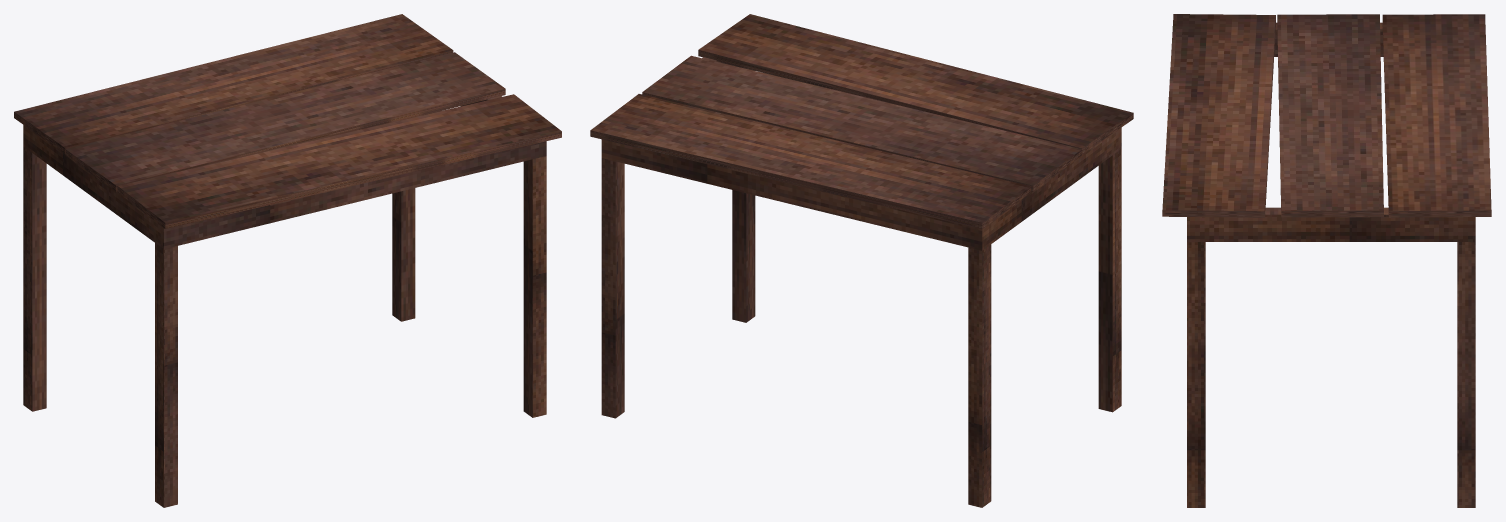
The model's file is Table.fbx.
3 renders of one model, left to right at view 1: azimuth 30°, elevation 25°; view 2: azimuth 150°, elevation 25°; view 3: azimuth 270°, elevation 25°, orthographic. The views are drawn at different scales.
Visible parts, largest first — view 1: Cube.002; view 2: Cube.002; view 3: Cube.002.
Boxes of the visible parts, box(x1,y1,x2,y2) form: Cube.002: box(14, 14, 561, 507); Cube.002: box(590, 14, 1133, 507); Cube.002: box(1162, 14, 1491, 507).
Bounding box in the file's own units: 457 × 324 × 322.
Materials: 1 (1 with a texture image).
